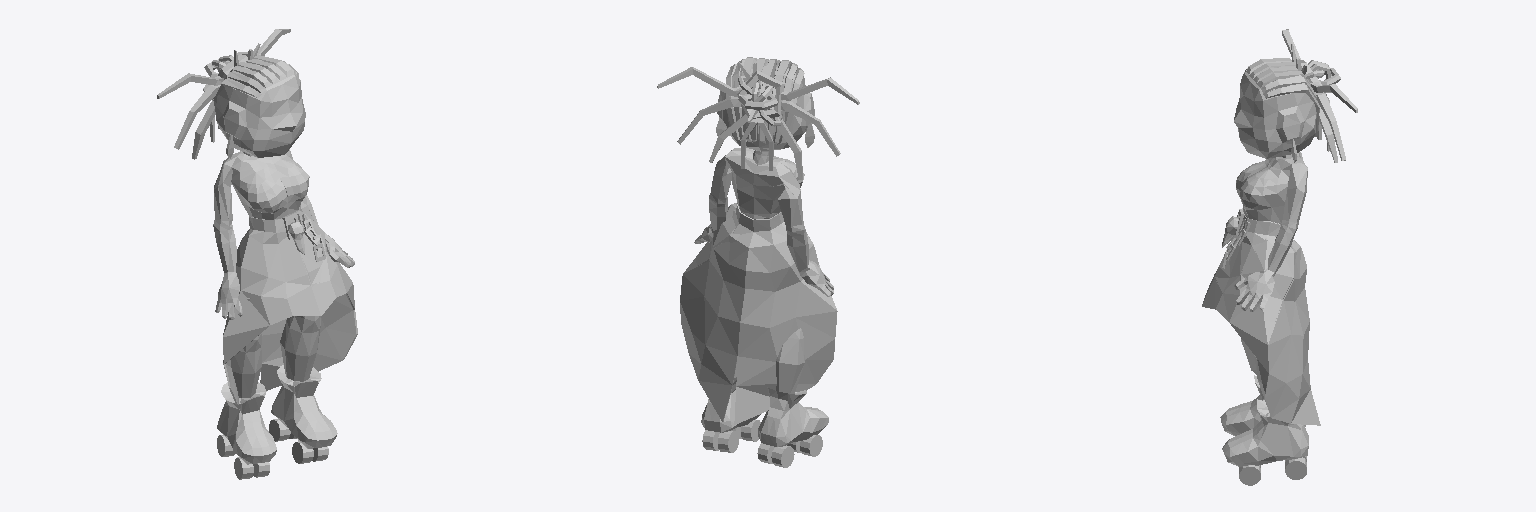
The model's file is bruja_000014.obj.
3 views of the same model, side by side, from view 1: azimuth 30°, elevation 25°; view 2: azimuth 150°, elevation 25°; view 3: azimuth 270°, elevation 25° (orthographic).
Visible parts, largest first — view 1: Bruja_Plane.001; view 2: Bruja_Plane.001; view 3: Bruja_Plane.001.
Part boxes in pixels (left/top/right/bottom): Bruja_Plane.001: left=157, top=29, right=357, bottom=479; Bruja_Plane.001: left=657, top=57, right=859, bottom=467; Bruja_Plane.001: left=1202, top=29, right=1357, bottom=485.
Size of the model in its own units: 7.95 by 16.45 by 5.71.